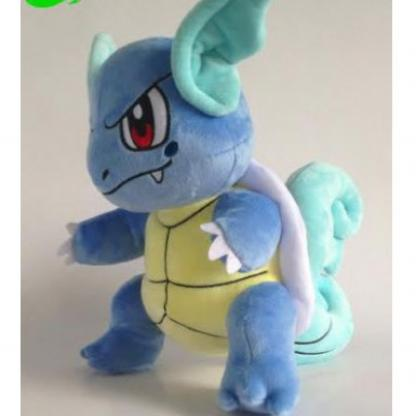Wartortle: (61, 1, 368, 416)
